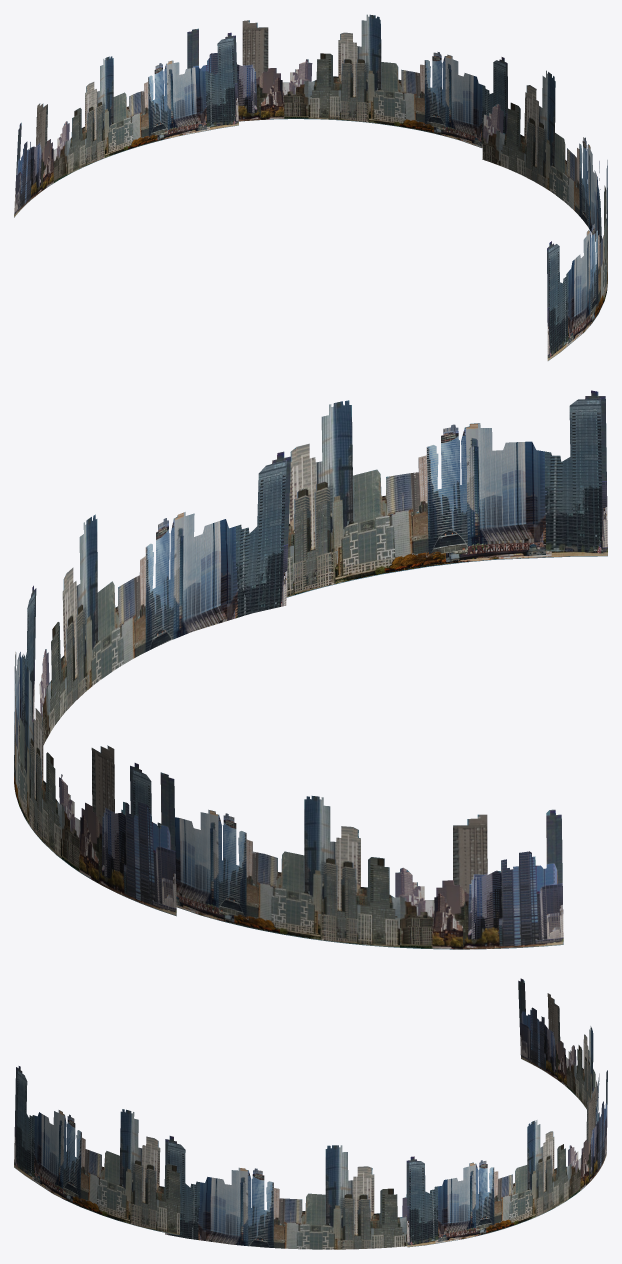
The model's file is China_track_building_wall.dae.
3 views of the same model, one above another, from view 1: azimuth 30°, elevation 25°; view 2: azimuth 150°, elevation 25°; view 3: azimuth 270°, elevation 25° (orthographic). The views are drawn at different scales.
Visible parts, largest first — view 1: China_track_building_wall; view 2: China_track_building_wall; view 3: China_track_building_wall.
Part boxes in pixels (x1,y1,x2,y2): China_track_building_wall: [14, 14, 607, 360]; China_track_building_wall: [14, 390, 607, 949]; China_track_building_wall: [14, 978, 607, 1249].
Bounding box in the file's own units: 52.36 × 69.3 × 15.08.
1 material, 1 textured.
